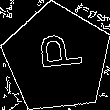P_W: (30, 38, 84, 80)
